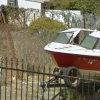Boat: (40, 16, 100, 81)
